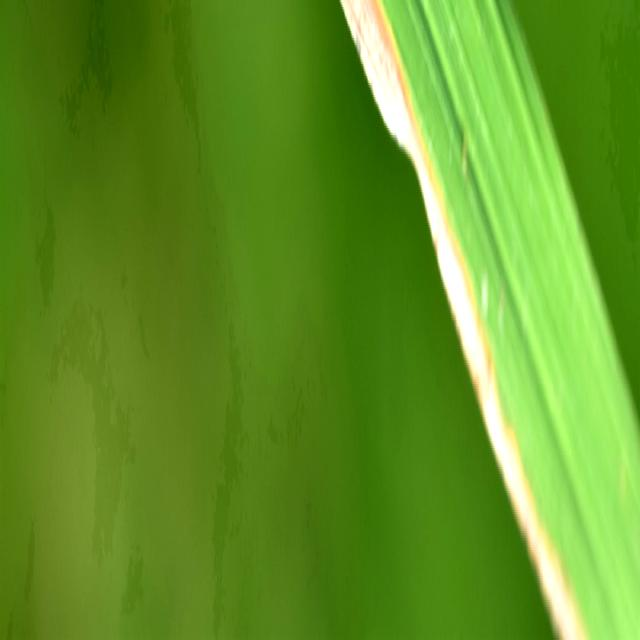BLB: (340, 0, 584, 638)
